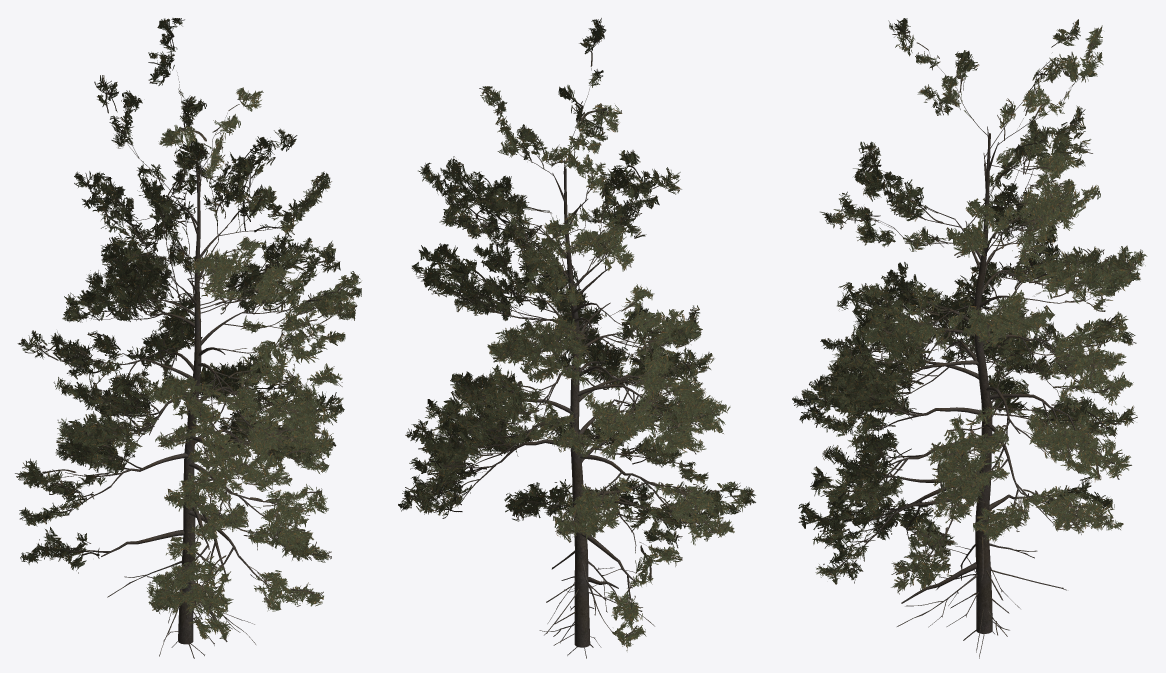
The picture shows the model from 3 angles, left to right: view 1: azimuth 30°, elevation 25°; view 2: azimuth 150°, elevation 25°; view 3: azimuth 270°, elevation 25°; orthographic projection. The views are drawn at different scales.
Parts seen in each view (by area): view 1: pine_sapling_medium__c_lod0; view 2: pine_sapling_medium__c_lod0; view 3: pine_sapling_medium__c_lod0.
Part boxes in pixels (x1,y1,x2,y2): pine_sapling_medium__c_lod0: [15, 18, 361, 658]; pine_sapling_medium__c_lod0: [398, 18, 755, 658]; pine_sapling_medium__c_lod0: [792, 18, 1147, 658].
Bounding box in the file's own units: 3.87 × 7.04 × 3.58.
2 materials, 2 textured.
